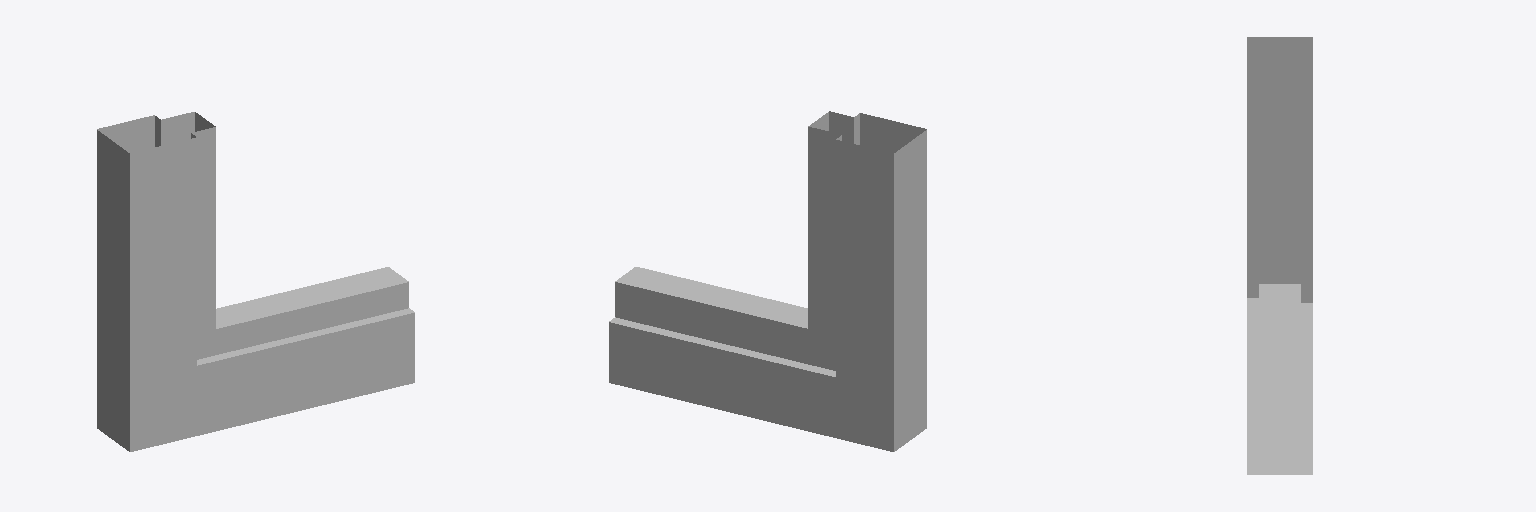
Rendered from original-50.obj.
3 renders of one model, left to right at view 1: azimuth 30°, elevation 25°; view 2: azimuth 150°, elevation 25°; view 3: azimuth 270°, elevation 25°, orthographic.
Visible parts, largest first — view 1: SCREEN_BL1/SCREEN_BL/mesh384/mesh384-geometry#mesh384-geometry; view 2: SCREEN_BL1/SCREEN_BL/mesh384/mesh384-geometry#mesh384-geometry; view 3: SCREEN_BL1/SCREEN_BL/mesh384/mesh384-geometry#mesh384-geometry.
Part boxes in pixels (bbox=[...]): SCREEN_BL1/SCREEN_BL/mesh384/mesh384-geometry#mesh384-geometry: bbox=[97, 112, 414, 451]; SCREEN_BL1/SCREEN_BL/mesh384/mesh384-geometry#mesh384-geometry: bbox=[609, 111, 926, 451]; SCREEN_BL1/SCREEN_BL/mesh384/mesh384-geometry#mesh384-geometry: bbox=[1247, 37, 1312, 474].
Bounding box in the file's own units: 0.0652 × 0.0652 × 0.0132.